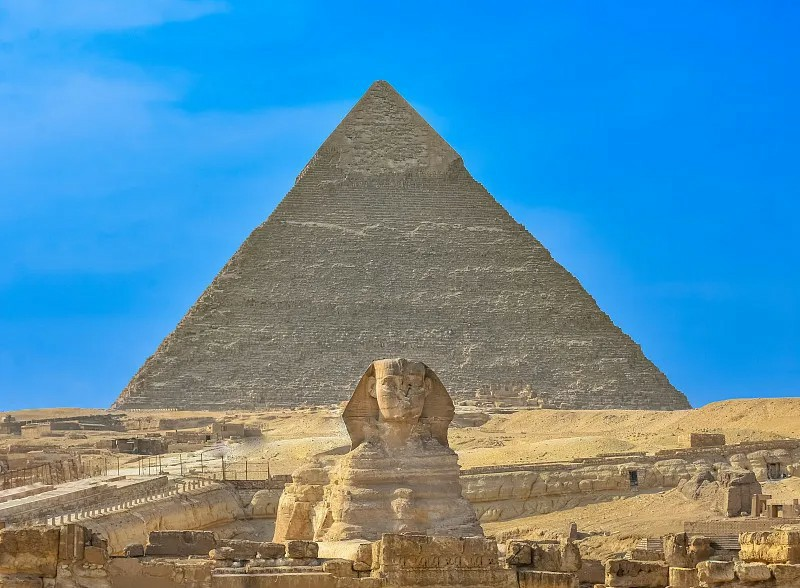Pyramid: (108, 80, 691, 412), (339, 268, 340, 269)
